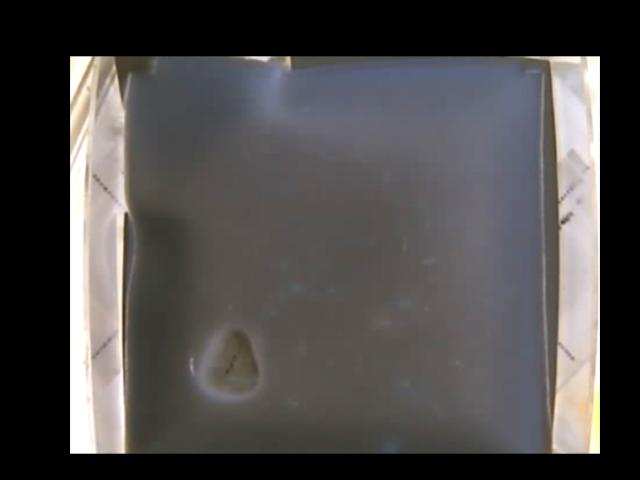Pebble: (202, 327, 259, 395)
